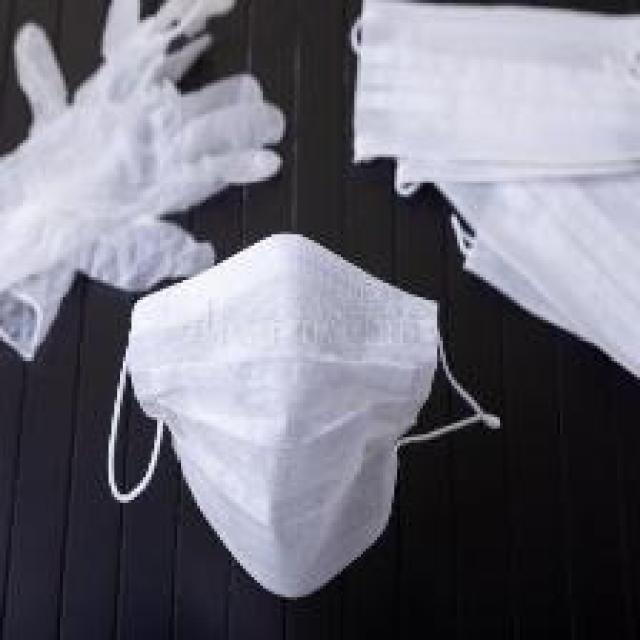Mask: (107, 220, 490, 617), (345, 8, 640, 389)
